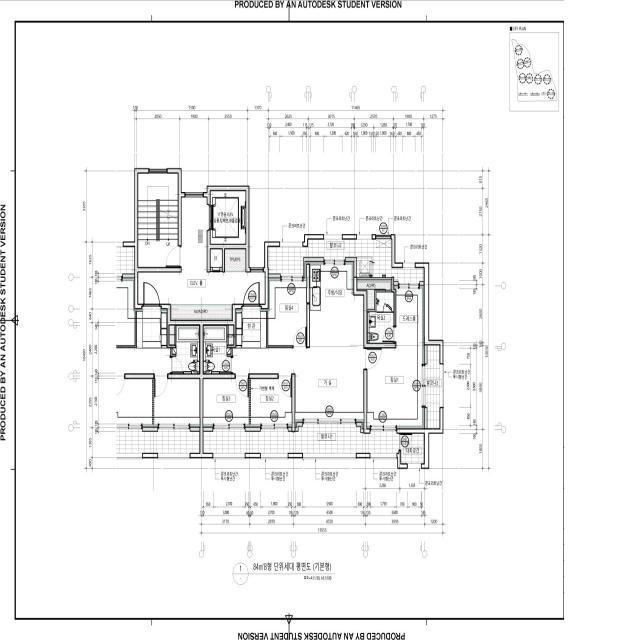space_balconi: (268, 239, 424, 283), (203, 424, 399, 453), (426, 345, 440, 428)
space_bedroom: (367, 348, 422, 426), (268, 281, 306, 347), (203, 379, 249, 424), (251, 379, 292, 424)
space_dressroom: (396, 288, 422, 348)
space_elevator_hall: (138, 198, 265, 304)
space_front: (236, 307, 266, 348)
space_kitchen: (310, 265, 363, 348)
space_living_room: (232, 348, 364, 419)
space_other: (357, 282, 390, 309), (172, 304, 231, 319), (401, 434, 424, 464), (225, 249, 246, 272), (211, 249, 222, 267), (229, 326, 233, 345)
space_staircase: (138, 174, 178, 267)
space_toilet: (367, 292, 394, 343), (203, 326, 231, 373)
